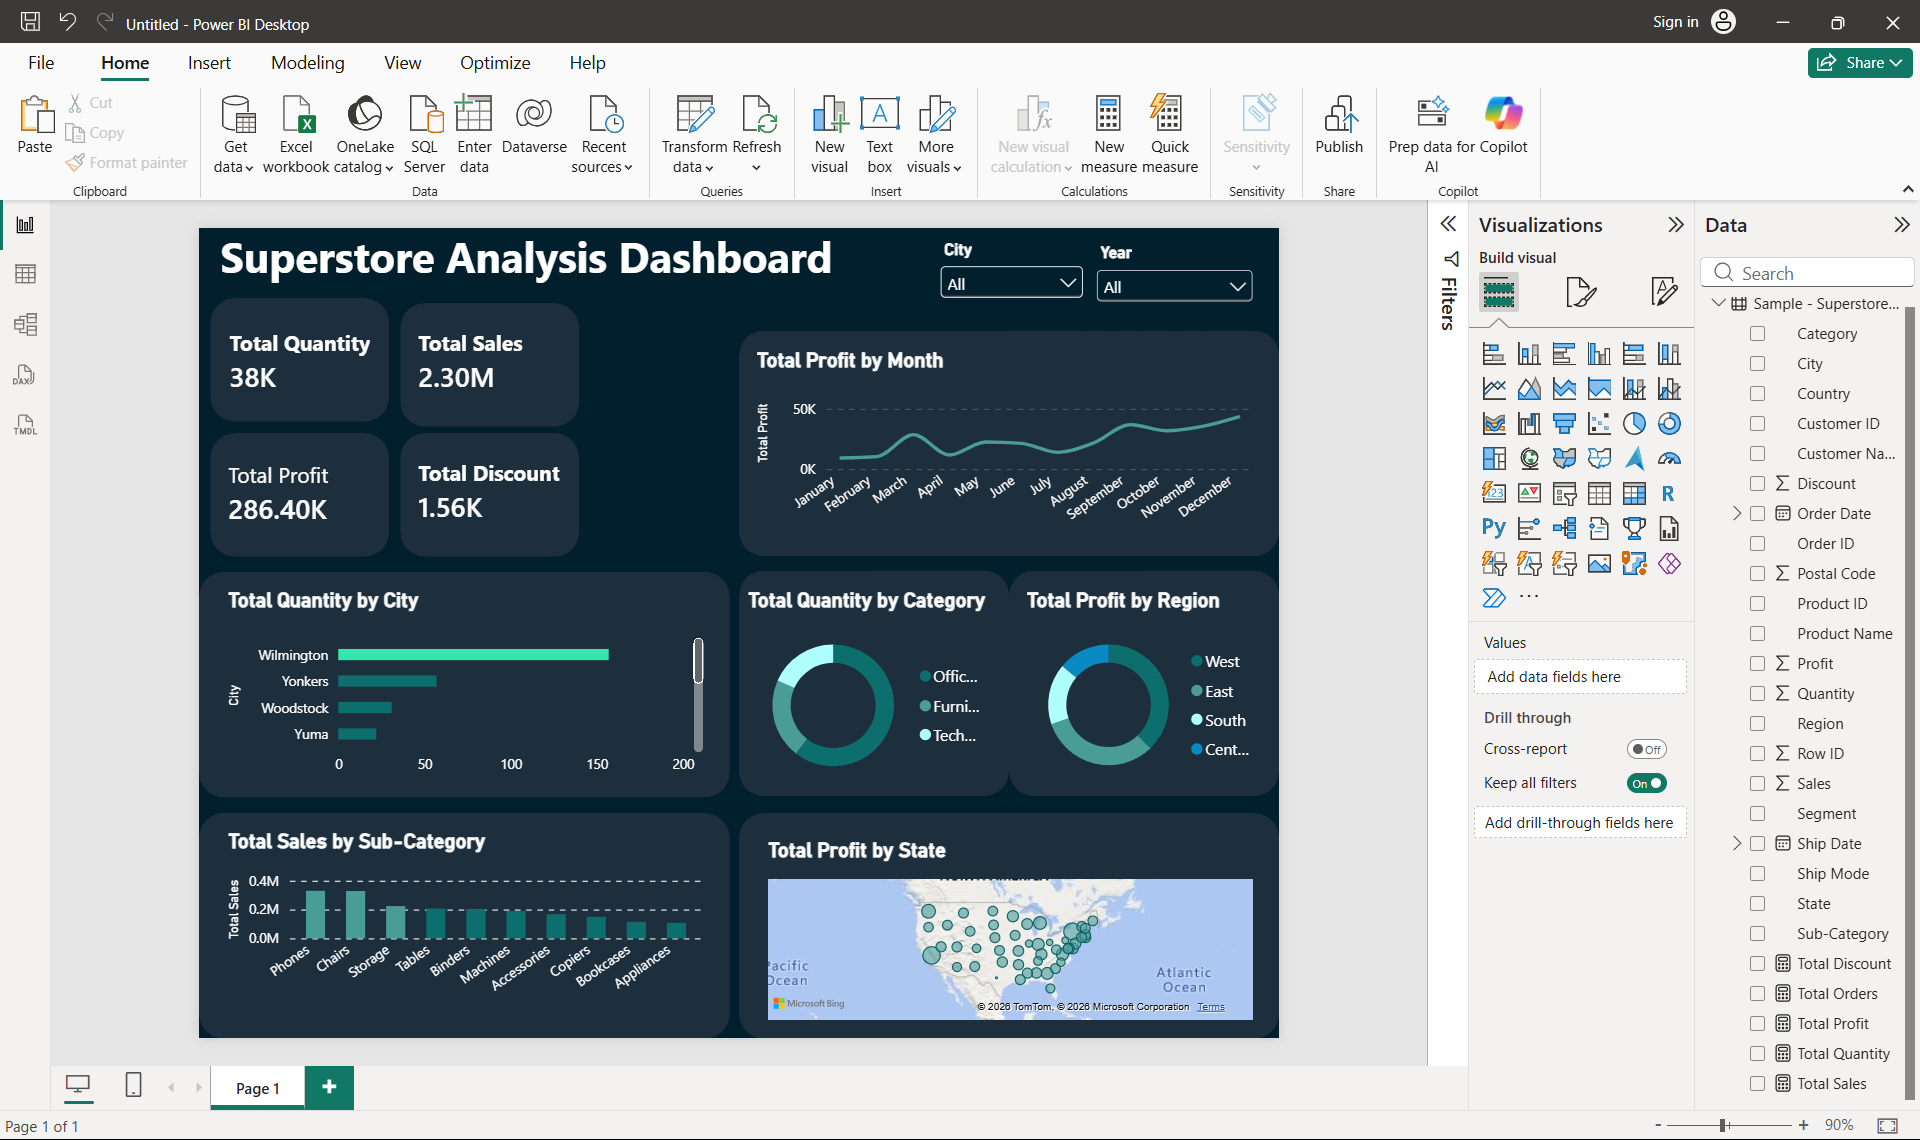

This screenshot's page, from the dashboard's own definition file:
{"tool":"powerbi","page":{"name":"Page 1","canvas":[960,720],"ordinal":0},"visuals":[{"type":"shape","box":[480.1,519.6,480.1,200.6],"z":0},{"type":"shape","box":[0,519.6,471.8,200.6],"z":1000},{"type":"shape","box":[720.2,304.5,240.1,200.6],"z":2000},{"type":"shape","box":[480.1,91.5,480.1,200.6],"z":3000},{"type":"shape","box":[480.1,304.5,240.1,200.6],"z":4000},{"type":"shape","box":[0,305.5,471.8,200.6],"z":5000},{"type":"map","fields":{"Category":["Sample - Superstore_C2.State"],"Size":["Sample - Superstore_C2.Total Profit"]},"box":[490,528,463,192],"z":6000},{"type":"donutChart","fields":{"Category":["Sample - Superstore_C2.Category"],"Y":["Sample - Superstore_C2.Total Quantity"]},"box":[472,305,248,202],"z":7000},{"type":"donutChart","fields":{"Category":["Sample - Superstore_C2.Region"],"Y":["Sample - Superstore_C2.Total Profit"]},"box":[720,306,240,201],"z":8000},{"type":"lineChart","fields":{"Category":["Sample - Superstore_C2.Order Date.Variation.Date Hierarchy.Year","Sample - Superstore_C2.Order Date.Variation.Date Hierarchy.Quarter","Sample - Superstore_C2.Order Date.Variation.Date Hierarchy.Month","Sample - Superstore_C2.Order Date.Variation.Date Hierarchy.Day"],"Y":["Sample - Superstore_C2.Total Profit"]},"box":[480,92,473,201],"z":9000},{"type":"shape","box":[10,182,159,110],"z":10000},{"type":"shape","box":[179,182,159,110],"z":11000},{"type":"shape","box":[179,67,159,110],"z":12000},{"type":"shape","box":[10,62,159,110],"z":13000},{"type":"clusteredColumnChart","fields":{"Category":["Sample - Superstore_C2.Sub-Category"],"Y":["Sample - Superstore_C2.Total Sales"]},"box":[10,520,454,192],"z":14000},{"type":"clusteredBarChart","fields":{"Category":["Sample - Superstore_C2.City"],"Y":["Sample - Superstore_C2.Total Quantity"]},"box":[10,306,454,200],"z":15000},{"type":"cardVisual","fields":{"Data":["Sample - Superstore_C2.Total Sales"]},"box":[179,67,159,105],"z":16000},{"type":"cardVisual","fields":{"Data":["Sample - Superstore_C2.Total Quantity"]},"box":[11,67,159,105],"z":17000},{"type":"cardVisual","fields":{"Data":["Sample - Superstore_C2.Total Discount"]},"box":[179,182,159,105],"z":18000},{"type":"cardVisual","fields":{"Data":["Sample - Superstore_C2.Total Profit"]},"box":[10,184,159,105],"z":19000},{"type":"textbox","box":[19,0,602,50],"z":20000},{"type":"slicer","fields":{"Values":["Sample - Superstore_C2.City"]},"box":[654,10,136,57],"z":21000},{"type":"slicer","fields":{"Values":["Sample - Superstore_C2.Order Date.Variation.Date Hierarchy.Year","Sample - Superstore_C2.Order Date.Variation.Date Hierarchy.Quarter","Sample - Superstore_C2.Order Date.Variation.Date Hierarchy.Month","Sample - Superstore_C2.Order Date.Variation.Date Hierarchy.Day"]},"box":[793,13,148,54],"z":21001}]}

Visuals, with their boxes on the page's 960x720 design canvas (x1, y1, x2, y2). These are canvas units, not pixel positions in the 1920x1140 screenshot, which may show the page scaled, cropped or inside an application window:
shape: detection(480, 520, 960, 720)
shape: detection(0, 520, 472, 720)
shape: detection(720, 304, 960, 505)
shape: detection(480, 92, 960, 292)
shape: detection(480, 304, 720, 505)
shape: detection(0, 306, 472, 506)
map - Sample - Superstore_C2.State x Sample - Superstore_C2.Total Profit: detection(490, 528, 953, 720)
donutChart - Sample - Superstore_C2.Category x Sample - Superstore_C2.Total Quantity: detection(472, 305, 720, 507)
donutChart - Sample - Superstore_C2.Region x Sample - Superstore_C2.Total Profit: detection(720, 306, 960, 507)
lineChart - Sample - Superstore_C2.Order Date.Variation.Date Hierarchy.Year x Sample - Superstore_C2.Order Date.Variation.Date Hierarchy.Quarter: detection(480, 92, 953, 293)
shape: detection(10, 182, 169, 292)
shape: detection(179, 182, 338, 292)
shape: detection(179, 67, 338, 177)
shape: detection(10, 62, 169, 172)
clusteredColumnChart - Sample - Superstore_C2.Sub-Category x Sample - Superstore_C2.Total Sales: detection(10, 520, 464, 712)
clusteredBarChart - Sample - Superstore_C2.City x Sample - Superstore_C2.Total Quantity: detection(10, 306, 464, 506)
cardVisual - Sample - Superstore_C2.Total Sales: detection(179, 67, 338, 172)
cardVisual - Sample - Superstore_C2.Total Quantity: detection(11, 67, 170, 172)
cardVisual - Sample - Superstore_C2.Total Discount: detection(179, 182, 338, 287)
cardVisual - Sample - Superstore_C2.Total Profit: detection(10, 184, 169, 289)
textbox: detection(19, 0, 621, 50)
slicer - Sample - Superstore_C2.City: detection(654, 10, 790, 67)
slicer - Sample - Superstore_C2.Order Date.Variation.Date Hierarchy.Year x Sample - Superstore_C2.Order Date.Variation.Date Hierarchy.Quarter: detection(793, 13, 941, 67)
